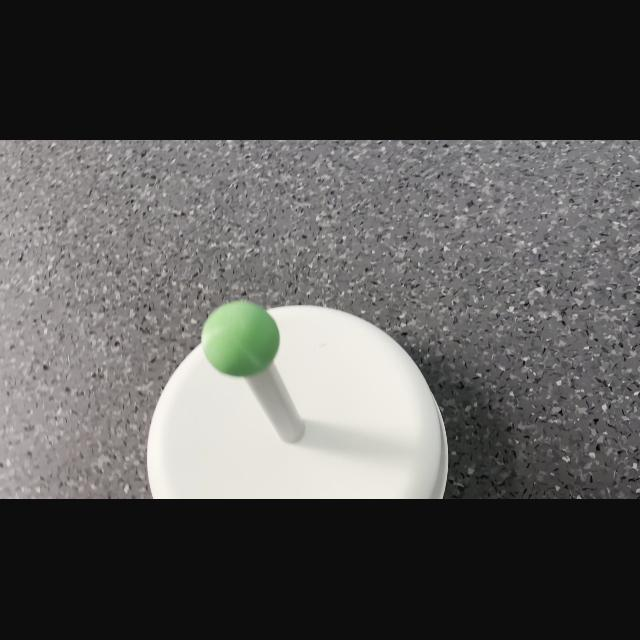objects: (198, 294, 284, 378)
